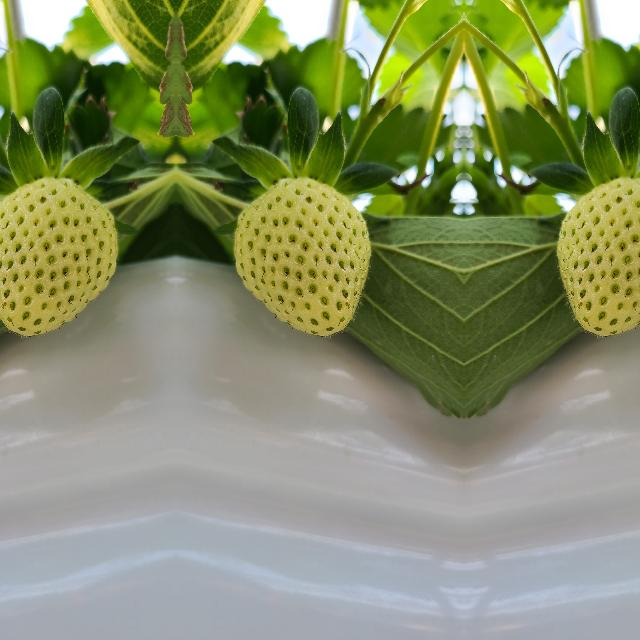Health_25: (230, 177, 372, 339), (0, 177, 119, 339), (554, 177, 640, 339)
